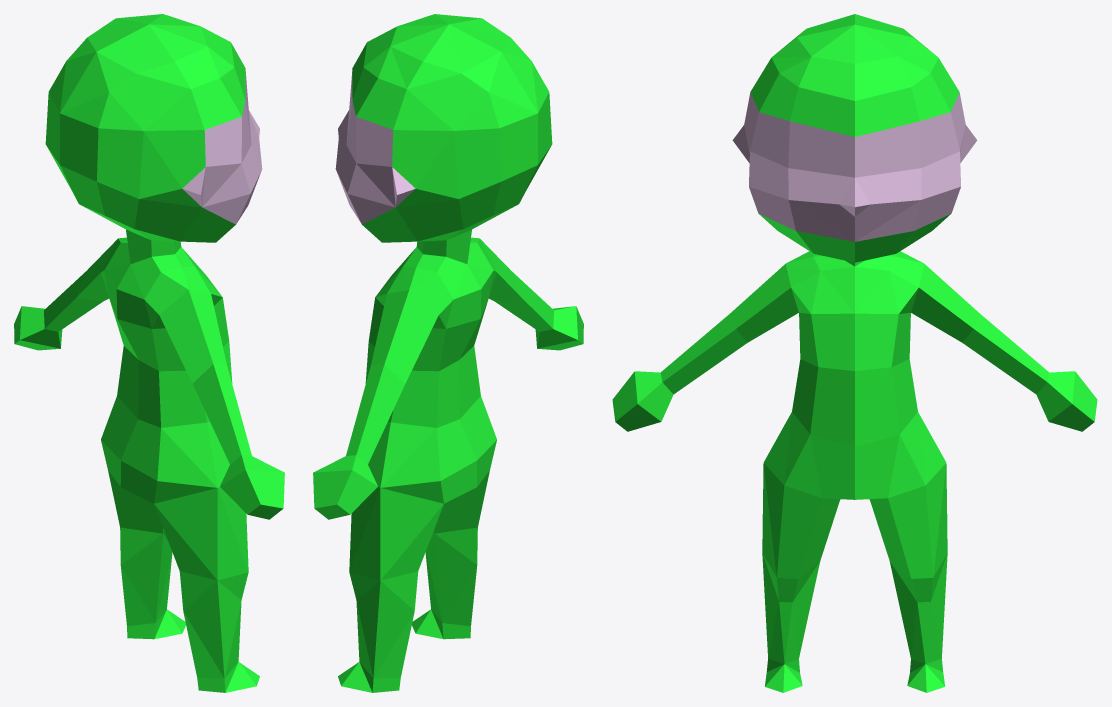
Rendered from Npc5.fbx.
3 views of the same model, side by side, from view 1: azimuth 30°, elevation 25°; view 2: azimuth 150°, elevation 25°; view 3: azimuth 270°, elevation 25° (orthographic).
Visible parts, largest first — view 1: Human_Base.006; view 2: Human_Base.006; view 3: Human_Base.006.
Boxes of the visible parts, x1,y1,x2,y2 form: Human_Base.006: (14, 14, 284, 692); Human_Base.006: (313, 14, 583, 692); Human_Base.006: (612, 14, 1097, 692).
Bounding box in the file's own units: 63.77 × 196 × 136.
